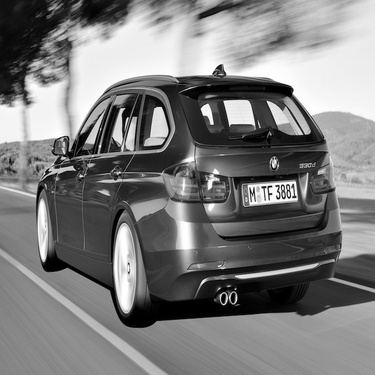car: (27, 59, 344, 328)
